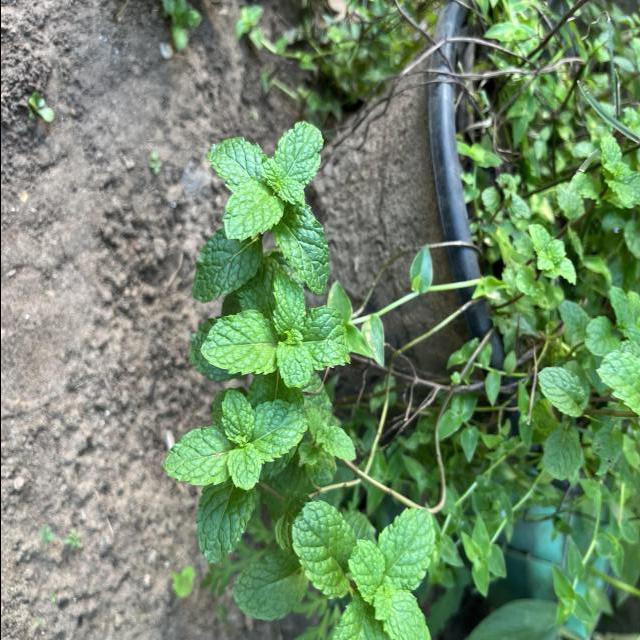Mentha spicata: (288, 500, 354, 600), (270, 201, 331, 294), (197, 308, 273, 378), (376, 506, 436, 592), (190, 232, 263, 302), (220, 176, 282, 244), (160, 425, 228, 487), (252, 398, 308, 464), (274, 118, 324, 188), (273, 339, 311, 391), (220, 387, 253, 442), (225, 443, 261, 491)
